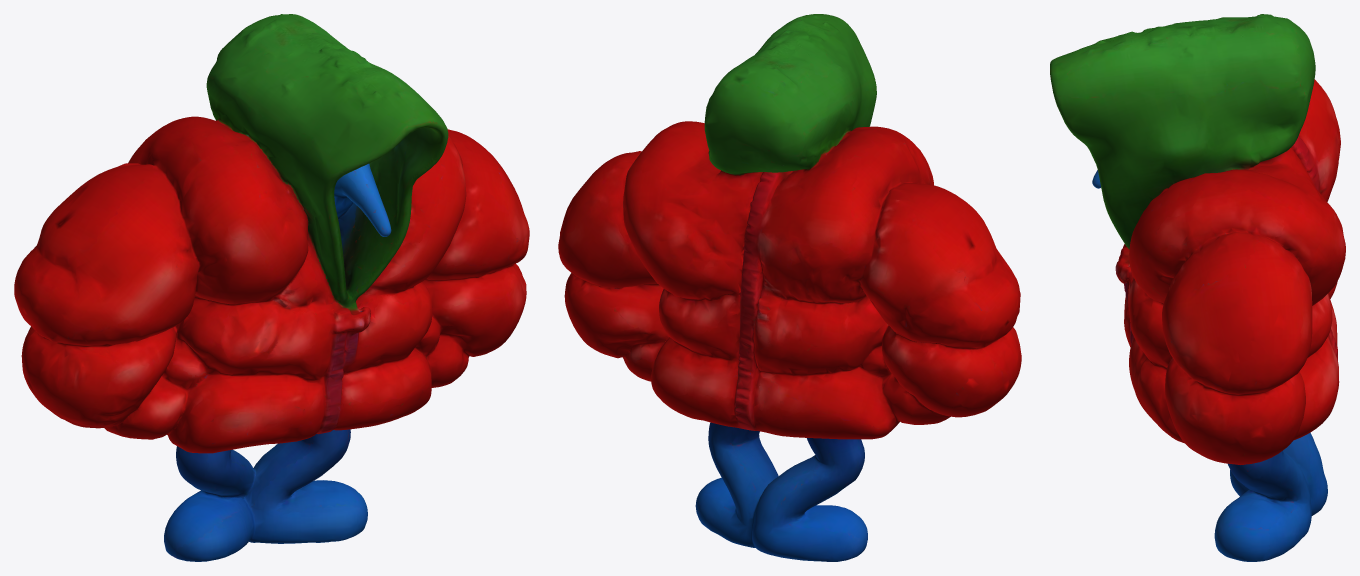
The model's file is bubbles.glb.
3 views of the same model, side by side, from view 1: azimuth 30°, elevation 25°; view 2: azimuth 150°, elevation 25°; view 3: azimuth 270°, elevation 25° (orthographic). The views are drawn at different scales.
Parts seen in each view (by area): view 1: geometry_0; view 2: geometry_0; view 3: geometry_0.
Part boxes in pixels (x1,y1,x2,y2): geometry_0: (14,14,529,561); geometry_0: (558,14,1021,561); geometry_0: (1050,14,1345,561).
Bounding box in the file's own units: 0.9936 × 0.9999 × 0.5254.
Materials: 1 (1 with a texture image).
